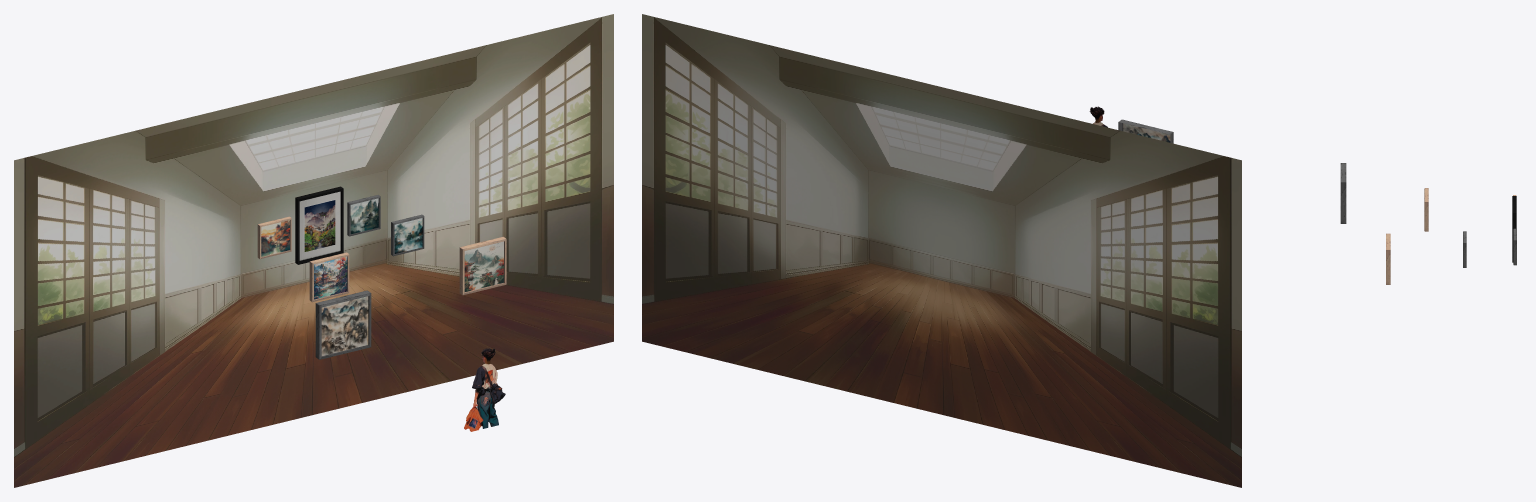
The model's file is Gallery.gltf.
3 renders of one model, left to right at view 1: azimuth 30°, elevation 25°; view 2: azimuth 150°, elevation 25°; view 3: azimuth 270°, elevation 25°, orthographic. The views are drawn at different scales.
Visible parts, largest first — view 1: fondo, cuadroCentral, cuadro1, cuadro2, humano, cuadro3, cuadro3.001, cuadro4, cuadro4.001; view 2: fondo, cuadro1; view 3: cuadro1.
Boxes of the visible parts, <box> form: fondo: <box>14,14,613,487</box>; cuadroCentral: <box>295,186,343,264</box>; cuadro1: <box>315,290,371,359</box>; cuadro2: <box>459,236,506,295</box>; humano: <box>464,348,505,431</box>; cuadro3: <box>309,252,349,302</box>; cuadro3.001: <box>257,216,291,259</box>; cuadro4: <box>391,214,424,256</box>; cuadro4.001: <box>347,195,380,236</box>; fondo: <box>642,14,1241,487</box>; cuadro1: <box>1118,119,1173,143</box>; cuadro1: <box>1340,163,1346,223</box>.
Bounding box in the file's own units: 25.2 × 13.16 × 12.
Materials: 11 (11 with a texture image).
